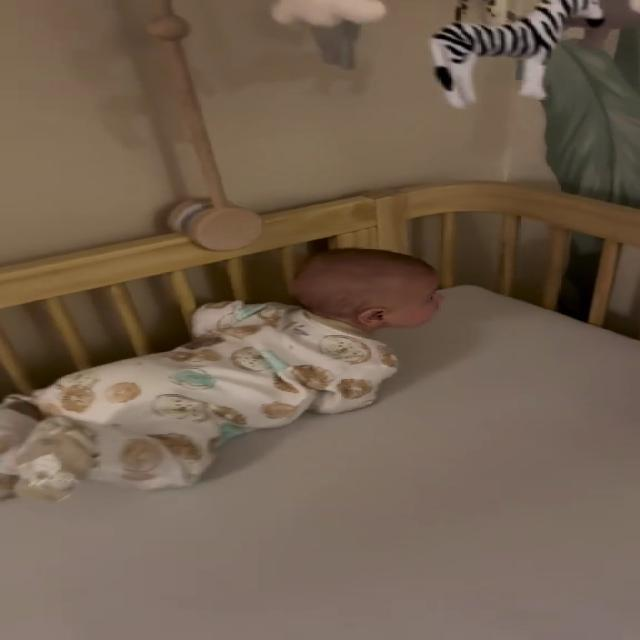baby: (0, 247, 461, 512)
